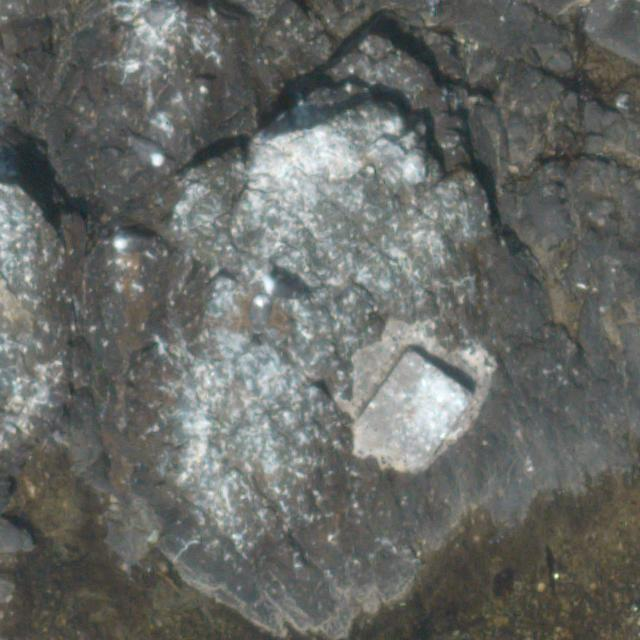umineko: (262, 273, 306, 302), (129, 138, 163, 164), (113, 234, 153, 252), (252, 293, 270, 329)
